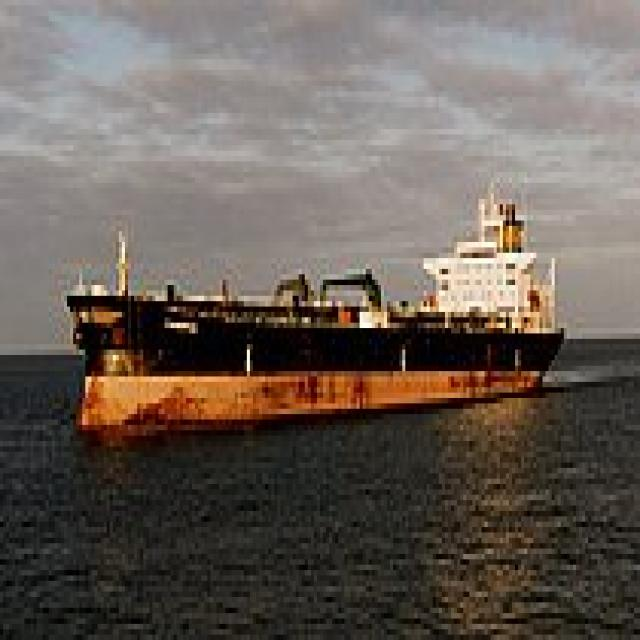Tanker: (58, 172, 567, 436)
